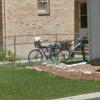Bicycle: (29, 38, 72, 65)
